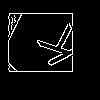K: (27, 22, 84, 74)
